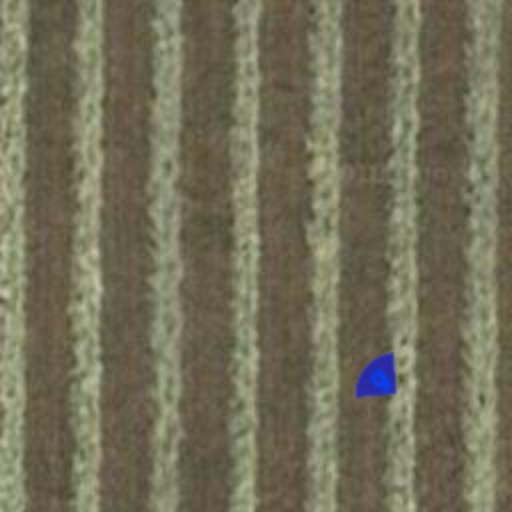quarter_circle: (338, 338, 418, 418)
